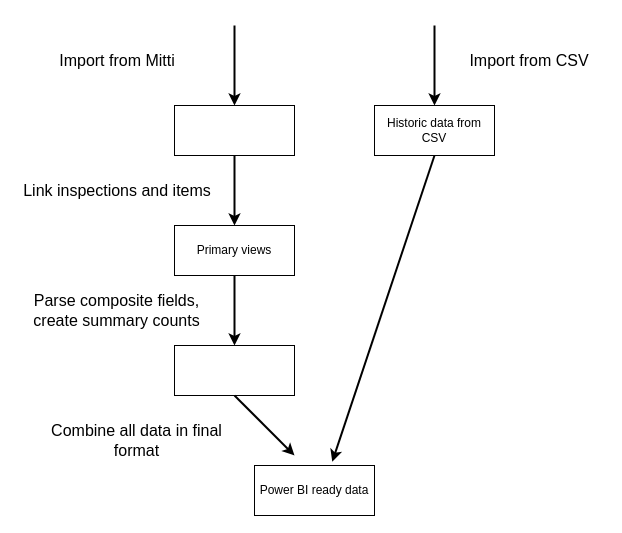
This 622x533 diagram has some shape labels left out. Each missing label, with the centre of its shape:
"Initial live data" goes at (234,130).
"Secondary views" goes at (234,370).
